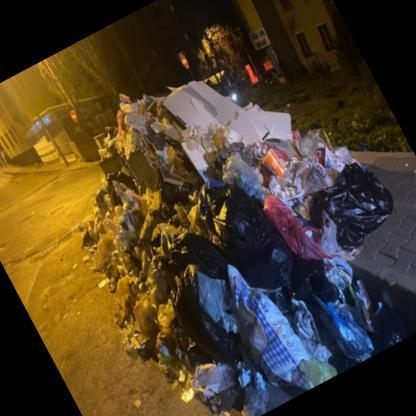Garbage: (166, 161, 376, 404), (205, 70, 411, 292), (101, 193, 244, 382), (71, 174, 220, 352), (114, 77, 230, 219), (97, 126, 142, 164)
